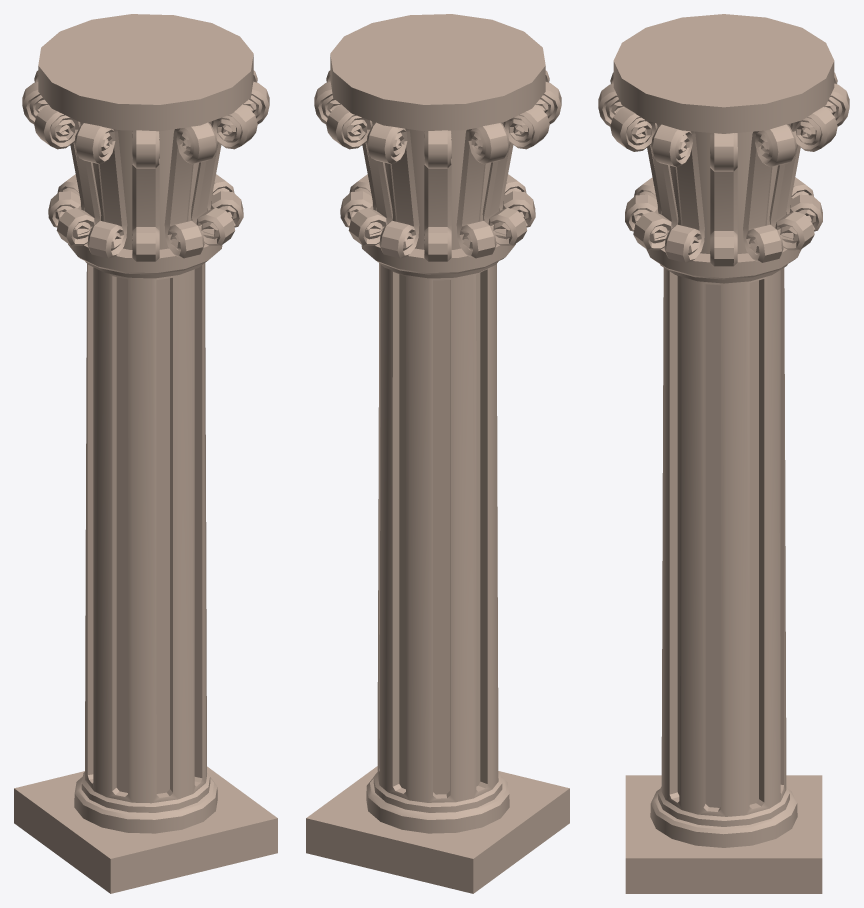
Rendered from pillar.fbx.
3 views of the same model, side by side, from view 1: azimuth 30°, elevation 25°; view 2: azimuth 150°, elevation 25°; view 3: azimuth 270°, elevation 25° (orthographic).
Visible parts, largest first — view 1: BézierCurve; view 2: BézierCurve; view 3: BézierCurve.
Boxes of the visible parts, x1,y1,x2,y2 form: BézierCurve: (14,14,277,893); BézierCurve: (306,14,569,893); BézierCurve: (598,14,849,893).
Size of the model in its own units: 2.56 by 8.9 by 2.56.
